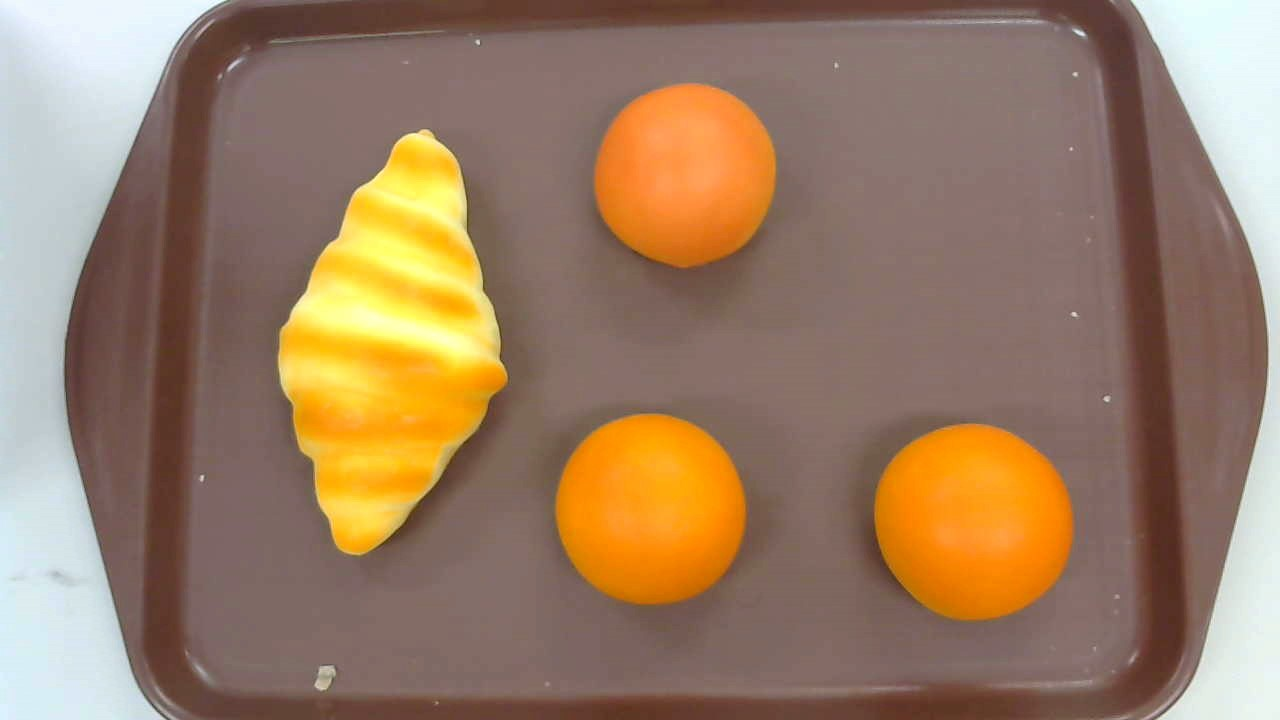bun: (873, 423, 1073, 622), (555, 412, 747, 607), (594, 81, 776, 271)
croissant: (277, 128, 510, 555)
